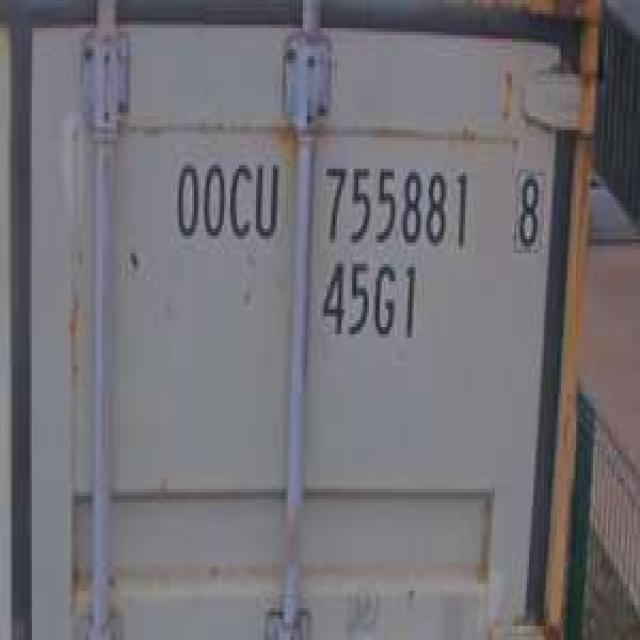dv: (508, 162, 546, 256)
owner: (168, 148, 282, 250)
serial: (318, 151, 473, 253)
size: (316, 253, 422, 352)
